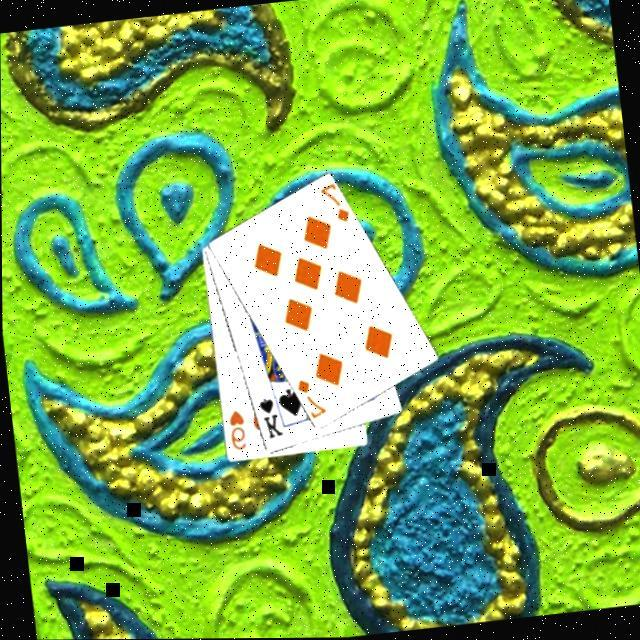6H: (225, 407, 251, 455)
7D: (317, 180, 354, 229), (294, 375, 331, 423)
KS: (255, 394, 287, 444)
